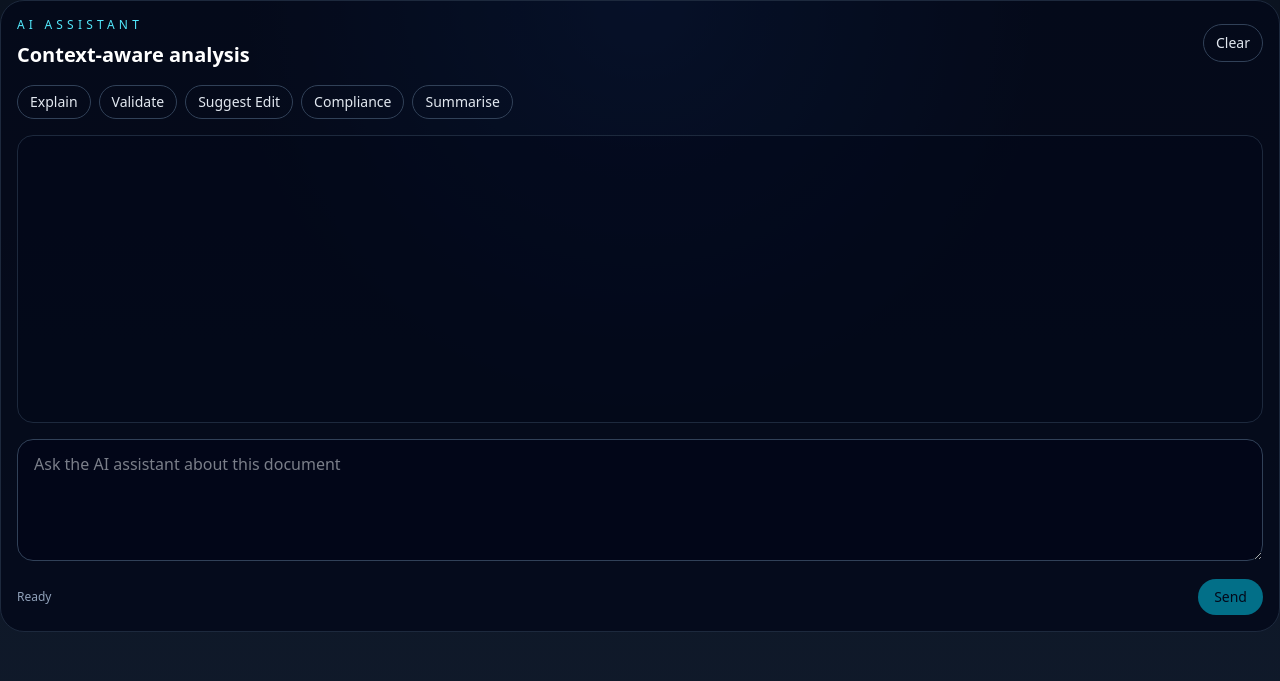
Test: AiPanel streaming › streams assistant content incrementally and renders DONE metadata
Type "Check this document" into the text box with placeholder "Ask the AI assistant about this document" at coordinates (640, 500), box left=17, top=439, right=1263, bottom=561
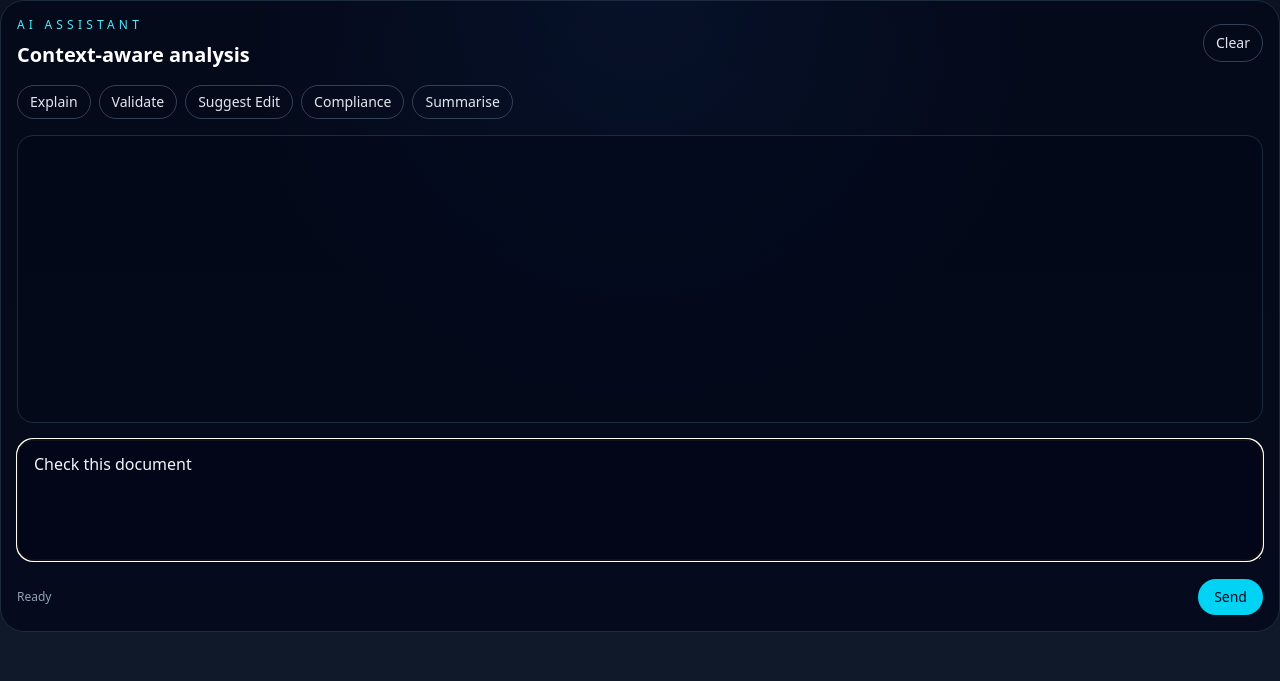
Click the button "Send" at coordinates (1231, 597), box left=1198, top=579, right=1263, bottom=615
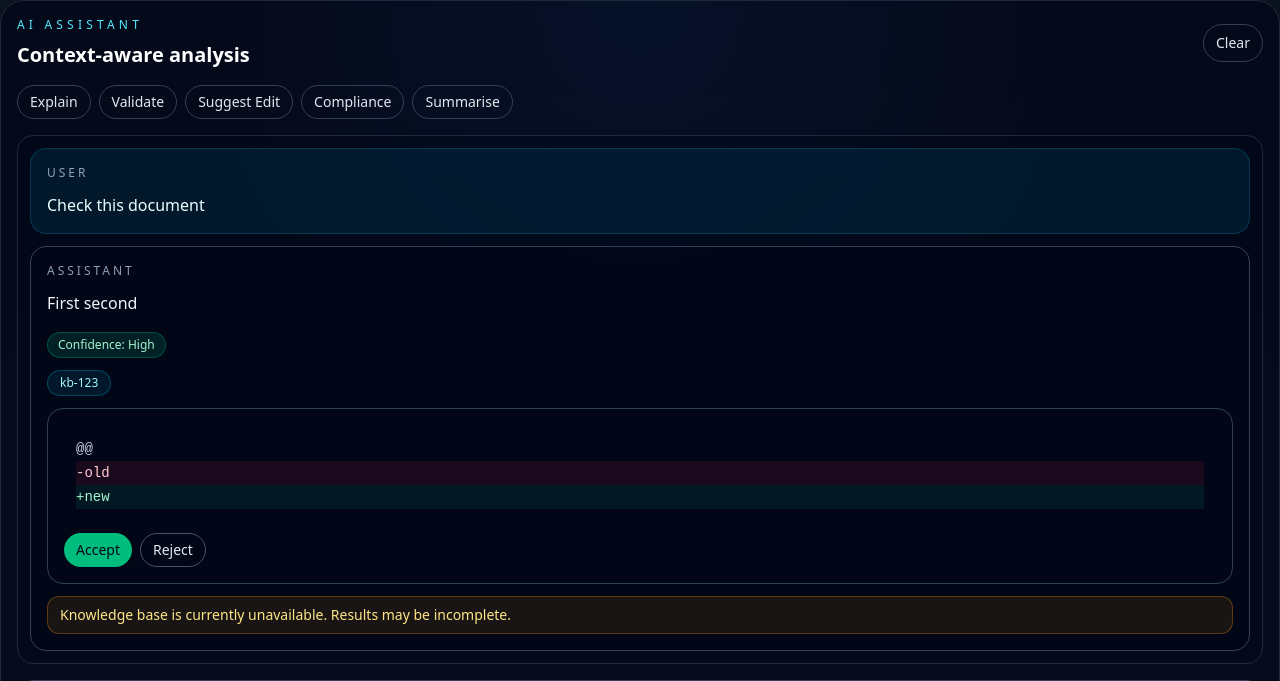
Now the text "First second" is shown, box left=47, top=292, right=137, bottom=314
Now the text "Confidence: High" is shown, box left=47, top=332, right=166, bottom=358
Now the button "Accept" is shown, box left=64, top=533, right=132, bottom=567
